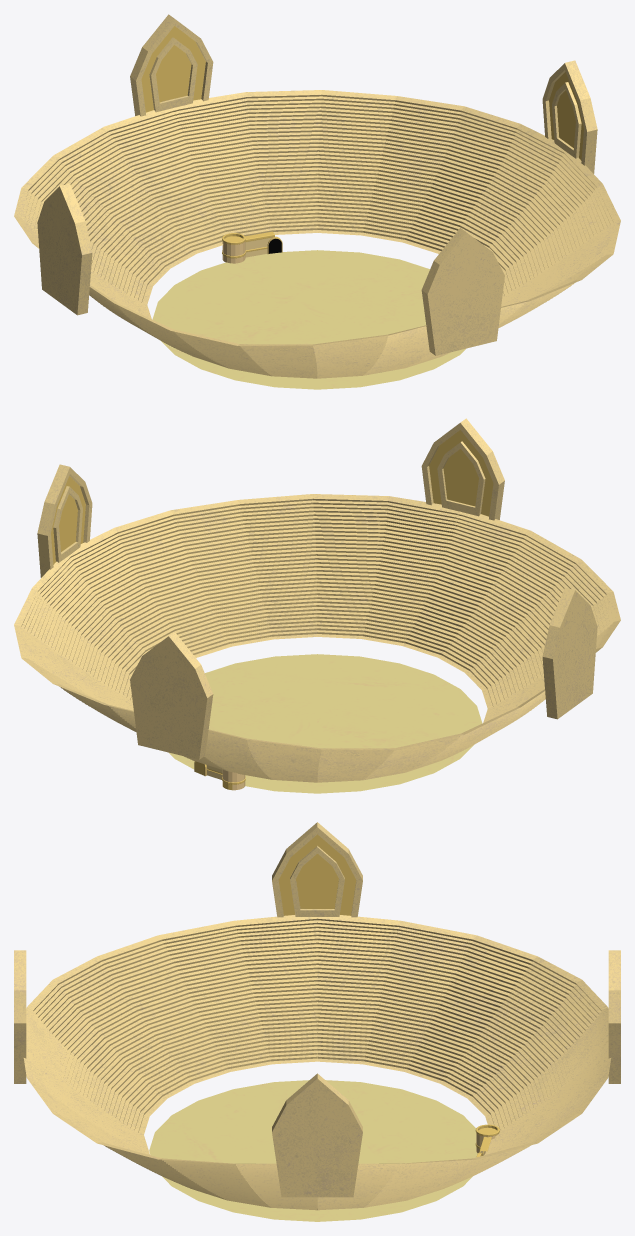
Rendered from Stage2.fbx.
3 views of the same model, one above another, from view 1: azimuth 30°, elevation 25°; view 2: azimuth 150°, elevation 25°; view 3: azimuth 270°, elevation 25° (orthographic).
Visible parts, largest first — view 1: Stage2BackGround, Stage2Floor, Stage2Wall2, Stage2Wall; view 2: Stage2BackGround, Stage2Floor; view 3: Stage2BackGround, Stage2Floor.
Boxes of the visible parts, left/top/right/bottom form: Stage2BackGround: left=14, top=14, right=620, bottom=378; Stage2Floor: left=152, top=250, right=465, bottom=389; Stage2Wall2: left=222, top=233, right=245, bottom=263; Stage2Wall: left=245, top=231, right=274, bottom=257; Stage2BackGround: left=14, top=418, right=620, bottom=782; Stage2Floor: left=169, top=654, right=482, bottom=793; Stage2BackGround: left=14, top=822, right=620, bottom=1210; Stage2Floor: left=149, top=1080, right=477, bottom=1221.
Size of the model in its own units: 22426 by 8191 by 22426.
Materials: 5 (5 with a texture image).
